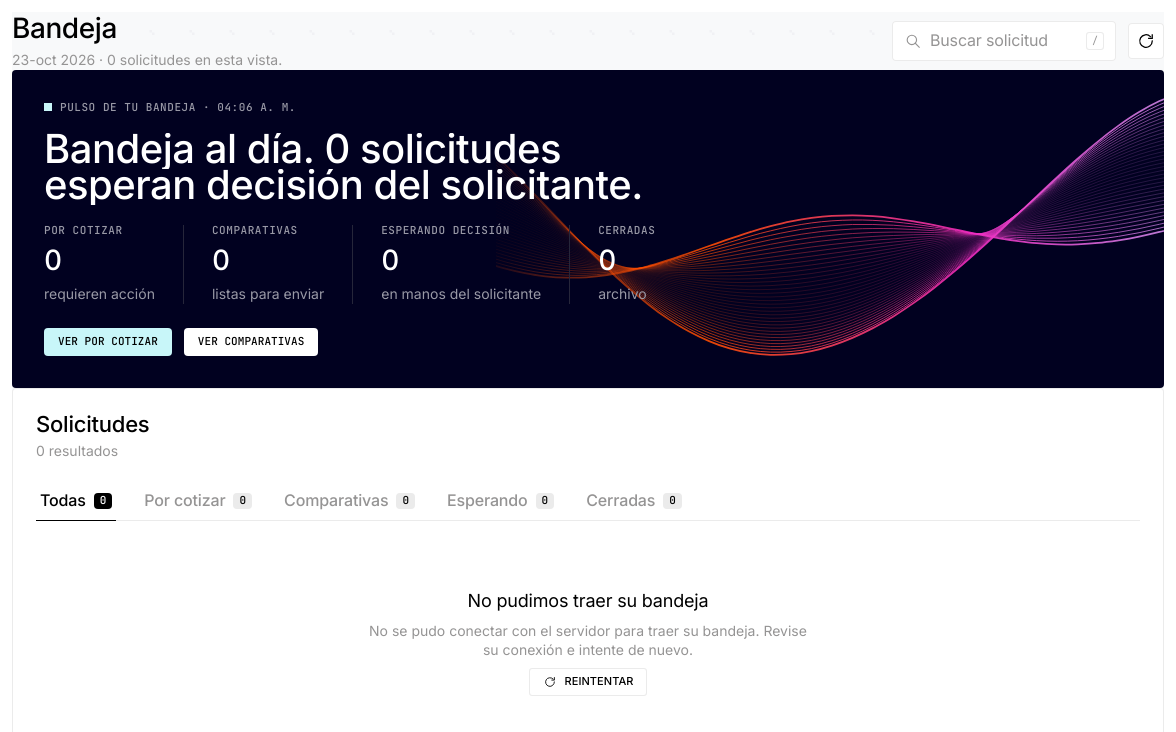
Panel del coordinador › P1-5 · un fallo de red muestra error con Reintentar, no una bandeja vacía
The image size is (1176, 732).
Expected: the text "No pudimos traer su bandeja" is shown, top-left (468, 589), bottom-right (708, 613)
Expected: the text "No se pudo conectar con el servidor" is shown, top-left (369, 622), bottom-right (807, 658)
What coordinates should you click on to do the following:
click the button "Reintentar"
I would click on:
 (588, 682)
Its box is top-left (528, 668), bottom-right (647, 696).
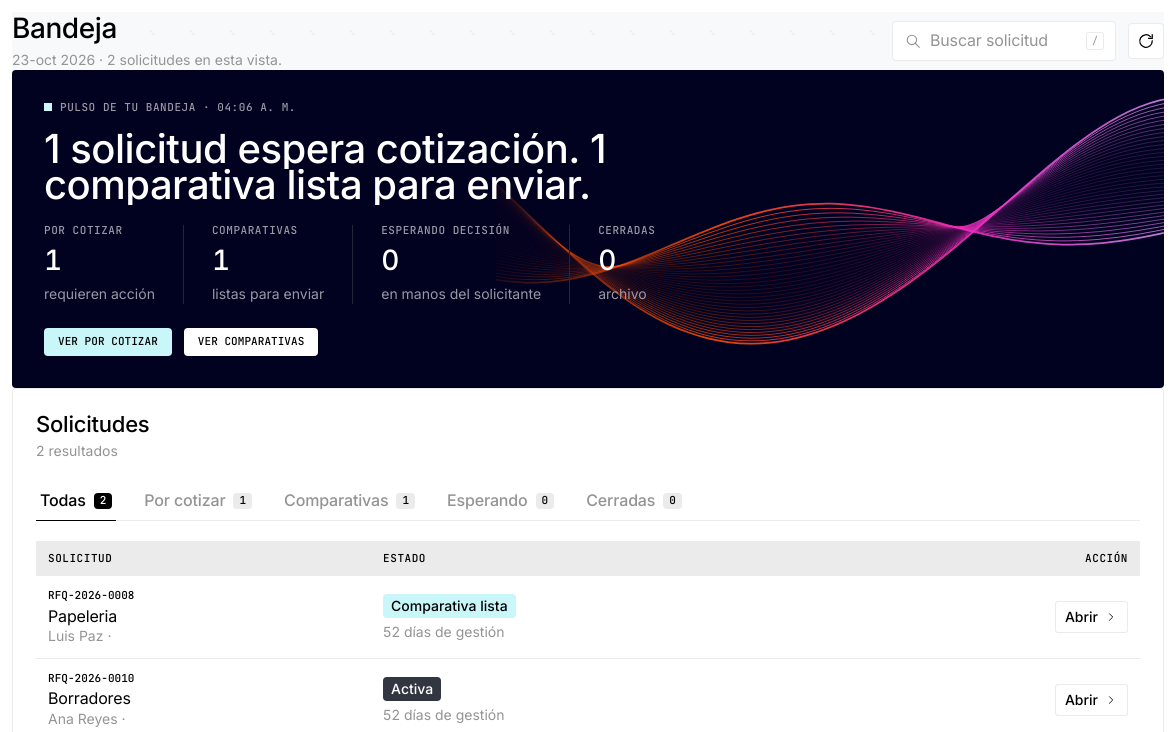
Now the text "2 resultados" is shown, box top-left (36, 442), bottom-right (118, 459)
Now the text "No pudimos traer su bandeja" is gone
